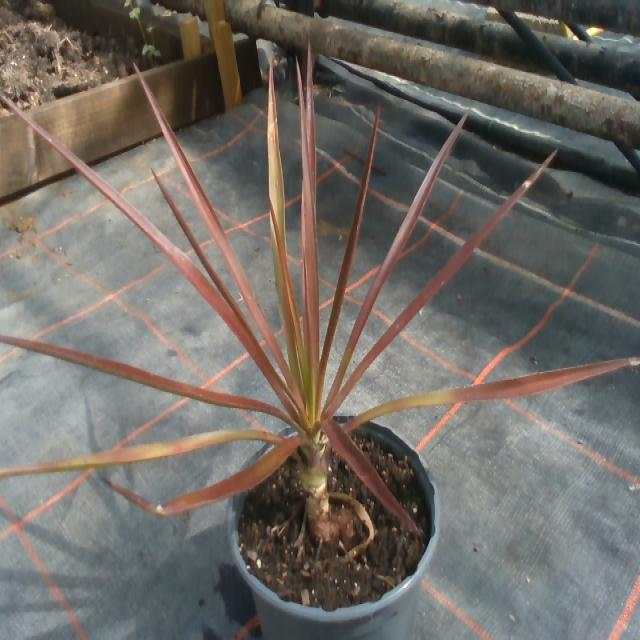Yucca-aloifolia: (6, 103, 283, 388), (329, 152, 555, 407), (145, 88, 292, 381), (325, 113, 468, 408), (0, 335, 287, 419), (345, 357, 639, 428), (320, 107, 379, 395), (152, 169, 247, 329), (0, 429, 281, 477), (145, 439, 298, 516), (267, 64, 301, 381), (321, 419, 416, 529), (298, 65, 318, 412), (269, 196, 305, 375), (114, 485, 141, 505)
